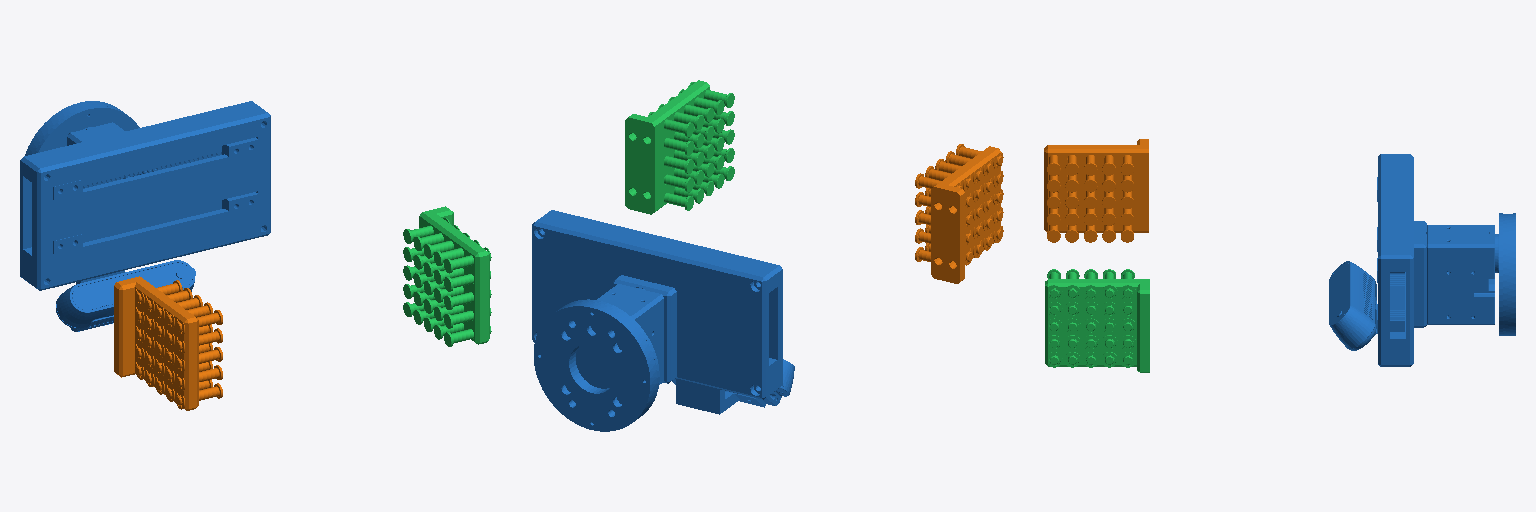
robot.urdf — gripper_assembly:
<?xml version="1.0"?>
<!--
  Gripper Assembly URDF
  - 좌표계: 플랜지 마운트 면 = 원점 (Y=0)
  - 단위: 미터 (STL은 mm → scale=0.001)
  - gripper_base_link → gripper_left_link  (prismatic, -X 방향으로 열림)
  - gripper_base_link → gripper_right_link (prismatic, +X 방향으로 열림)
  - M1013 tool0에 fixed joint로 연결 시: rpy="0 0 0" 방향 확인 필요
-->
<robot name="gripper_assembly">

  <!-- ── 몸체 ── -->
  <link name="gripper_base_link">
    <visual>
      <origin xyz="0 0 0" rpy="0 0 0"/>
      <geometry>
        <mesh filename="gripper_body_camera_urdf.stl" scale="0.001 0.001 0.001"/>
      </geometry>
      <material name="blue">
        <color rgba="0.2 0.5 0.8 1.0"/>
      </material>
    </visual>
    <collision>
      <origin xyz="0 0 0" rpy="0 0 0"/>
      <geometry>
        <mesh filename="gripper_body_camera_urdf.stl" scale="0.001 0.001 0.001"/>
      </geometry>
    </collision>
    <inertial>
      <mass value="0.8"/>
      <origin xyz="0.0 -0.0545 -0.006" rpy="0 0 0"/>
      <inertia ixx="0.001" ixy="0" ixz="0" iyy="0.001" iyz="0" izz="0.001"/>
    </inertial>
  </link>

  <!-- ── 왼쪽 플레이트 ── -->
  <link name="gripper_left_link">
    <visual>
      <origin xyz="0 0 0" rpy="0 0 0"/>
      <geometry>
        <mesh filename="gripper_left_urdf.stl" scale="0.001 0.001 0.001"/>
      </geometry>
      <material name="orange">
        <color rgba="0.9 0.5 0.1 1.0"/>
      </material>
    </visual>
    <collision>
      <origin xyz="0 0 0" rpy="0 0 0"/>
      <geometry>
        <mesh filename="gripper_left_urdf.stl" scale="0.001 0.001 0.001"/>
      </geometry>
    </collision>
    <inertial>
      <mass value="0.3"/>
      <origin xyz="0 0 0" rpy="0 0 0"/>
      <inertia ixx="0.0005" ixy="0" ixz="0" iyy="0.0005" iyz="0" izz="0.0005"/>
    </inertial>
  </link>

  <!-- ── 오른쪽 플레이트 ── -->
  <link name="gripper_right_link">
    <visual>
      <origin xyz="0 0 0" rpy="0 0 0"/>
      <geometry>
        <mesh filename="gripper_right_urdf.stl" scale="0.001 0.001 0.001"/>
      </geometry>
      <material name="green">
        <color rgba="0.2 0.8 0.4 1.0"/>
      </material>
    </visual>
    <collision>
      <origin xyz="0 0 0" rpy="0 0 0"/>
      <geometry>
        <mesh filename="gripper_right_urdf.stl" scale="0.001 0.001 0.001"/>
      </geometry>
    </collision>
    <inertial>
      <mass value="0.3"/>
      <origin xyz="0 0 0" rpy="0 0 0"/>
      <inertia ixx="0.0005" ixy="0" ixz="0" iyy="0.0005" iyz="0" izz="0.0005"/>
    </inertial>
  </link>

  <!-- ── 왼쪽 조인트: -X 방향으로 열림 ── -->
  <joint name="gripper_left_joint" type="prismatic">
    <parent link="gripper_base_link"/>
    <child link="gripper_left_link"/>
    <origin xyz="-0.0445 -0.1280 -0.0002" rpy="0 0 0"/>
    <axis xyz="-1 0 0"/>
    <limit lower="0.0" upper="0.036" effort="50.0" velocity="0.1"/>
    <dynamics damping="0.5" friction="0.1"/>
  </joint>

  <!-- ── 오른쪽 조인트: +X 방향으로 열림 (left와 대칭) ── -->
  <joint name="gripper_right_joint" type="prismatic">
    <parent link="gripper_base_link"/>
    <child link="gripper_right_link"/>
    <origin xyz="0.0445 -0.1277 -0.0017" rpy="0 0 0"/>
    <axis xyz="1 0 0"/>
    <limit lower="0.0" upper="0.036" effort="50.0" velocity="0.1"/>
    <dynamics damping="0.5" friction="0.1"/>
    <mimic joint="gripper_left_joint" multiplier="1.0" offset="0.0"/>
  </joint>


  <!-- ── D435 RGB 카메라 (gripper_body에 고정 장착) ── -->
  <!-- 위치: 렌즈 중심 기준 (STL 분석값)
       X=-0.0402m (그리퍼 중심에서 좌측 40mm)
       Y=-0.0855m (마운트면에서 손가락 방향으로 85.5mm)
       Z=-0.0676m (플랜지 아래 67.6mm)
       방향: 손가락 방향(-Y) + 45° 하향 = X축 135° 회전
       반대로 보이면 rpy="0.7854 0 0" 으로 변경 -->
  <link name="camera_link"/>
  <joint name="camera_joint" type="fixed">
    <parent link="gripper_base_link"/>
    <child link="camera_link"/>
    <origin xyz="-0.0402 -0.0855 -0.0676" rpy="2.3562 0 0"/>
  </joint>

  <!-- RGB 광학 프레임 (ROS 카메라 표준: Z=전방, X=우, Y=하) -->
  <link name="camera_color_optical_frame"/>
  <joint name="camera_color_optical_joint" type="fixed">
    <parent link="camera_link"/>
    <child link="camera_color_optical_frame"/>
    <origin xyz="0 0 0" rpy="-1.5708 0 -1.5708"/>
  </joint>

</robot>

--- Facts derived from the render (not from the file) ---
The picture shows the robot from 3 angles, left to right: view 1: azimuth 30°, elevation 25°; view 2: azimuth 150°, elevation 25°; view 3: azimuth 270°, elevation 25°; orthographic projection.
Model gripper_assembly with 5 links and 4 joints (2 prismatic, 2 fixed), rooted at gripper_base_link, posed every joint at zero.
Visible links, largest first — view 1: gripper_base_link, gripper_left_link, gripper_right_link; view 2: gripper_base_link, gripper_right_link, gripper_left_link; view 3: gripper_base_link, gripper_right_link, gripper_left_link.
Link boxes in pixels (x1,y1,x2,y2): gripper_base_link: [20, 101, 270, 331]; gripper_left_link: [114, 276, 222, 410]; gripper_right_link: [403, 206, 491, 346]; gripper_base_link: [532, 210, 794, 431]; gripper_right_link: [625, 80, 734, 214]; gripper_left_link: [915, 144, 1003, 283]; gripper_base_link: [1329, 154, 1515, 366]; gripper_right_link: [1045, 269, 1149, 372]; gripper_left_link: [1044, 139, 1148, 242].
Size in the robot's own frame: 0.229 by 0.3063 by 0.1026 metres.
Meshes: 3 distinct files referenced, 3 mesh visuals loaded (3 binary STL).
